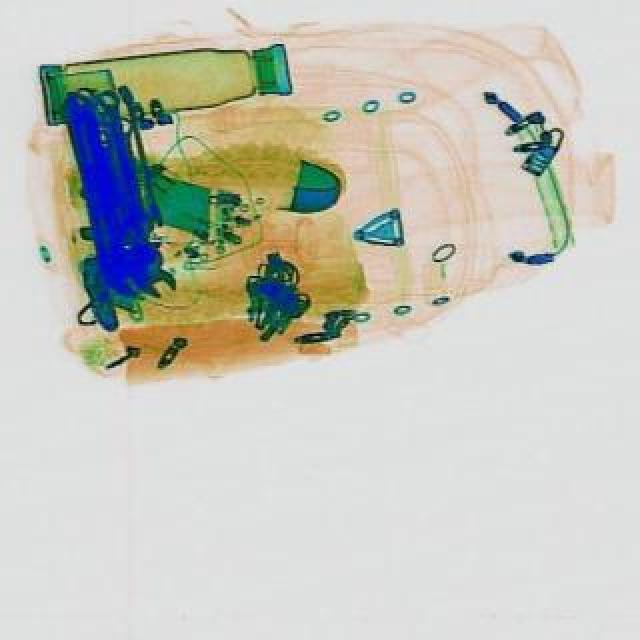wrench: (94, 88, 184, 304)
